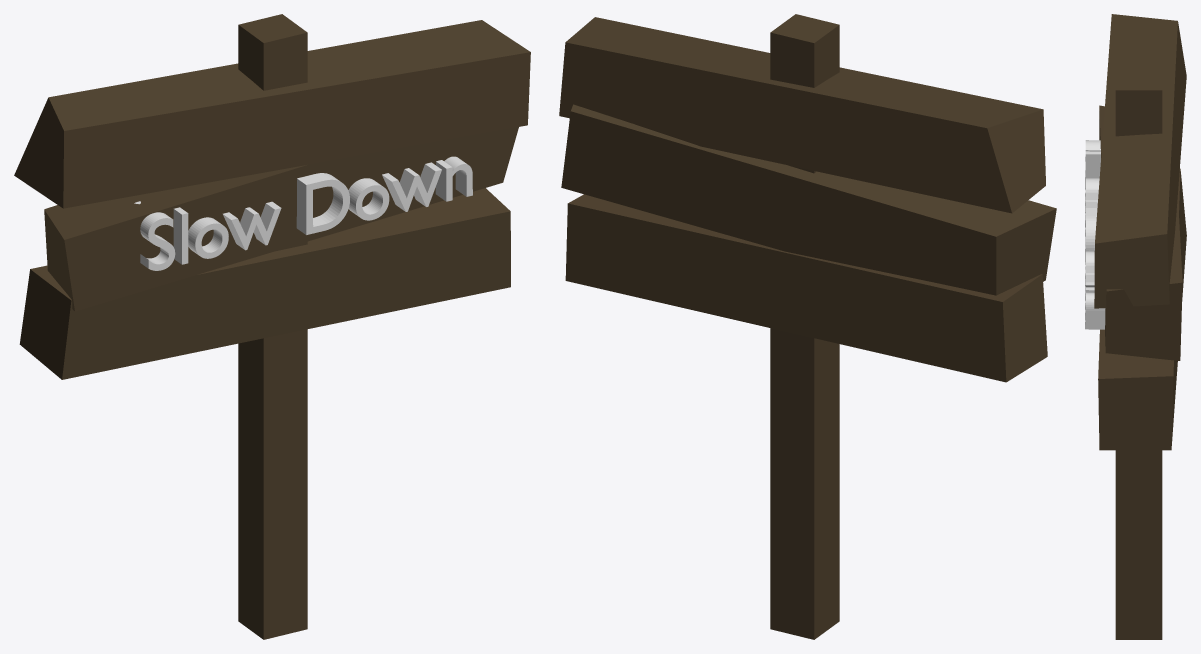
The model's file is slowDown.fbx.
3 views of the same model, side by side, from view 1: azimuth 30°, elevation 25°; view 2: azimuth 150°, elevation 25°; view 3: azimuth 270°, elevation 25° (orthographic). The views are drawn at different scales.
Visible parts, largest first — view 1: Cube.001, Slow; view 2: Cube.001; view 3: Cube.001, Slow.
Part boxes in pixels (box(x1,y1,x2,y2)): Cube.001: box(14, 14, 530, 639); Slow: box(134, 156, 472, 270); Cube.001: box(559, 14, 1056, 639); Cube.001: box(1094, 14, 1186, 639); Slow: box(1085, 140, 1105, 329).
Bounding box in the file's own units: 214 × 260 × 43.66.
